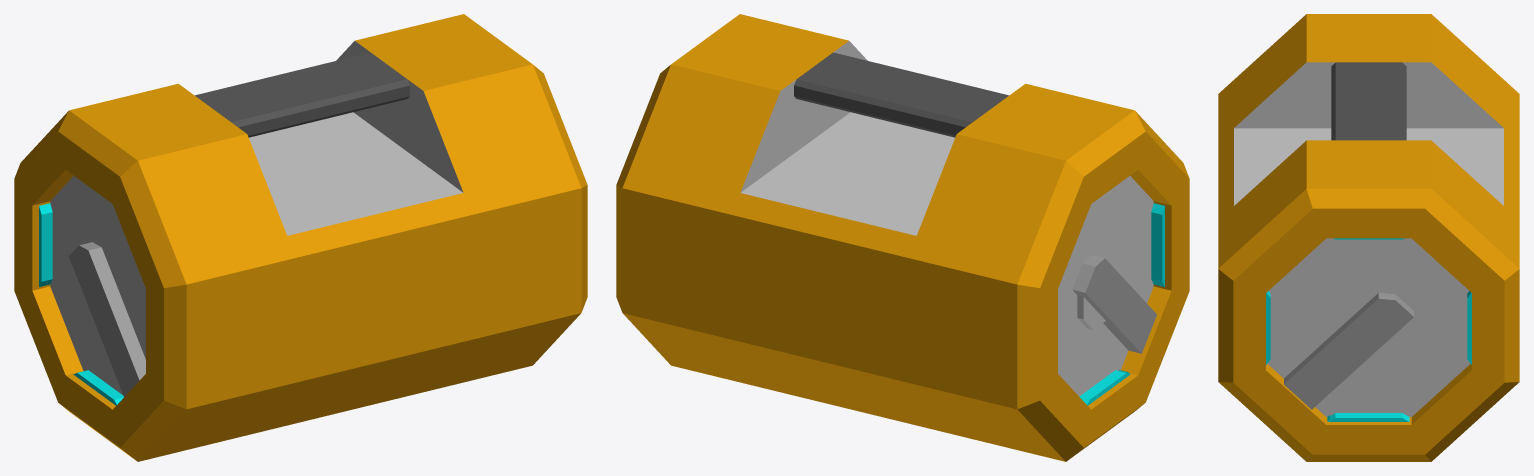
The model's file is SM_LA01_Battery.fbx.
3 renders of one model, left to right at view 1: azimuth 30°, elevation 25°; view 2: azimuth 150°, elevation 25°; view 3: azimuth 270°, elevation 25°, orthographic. The views are drawn at different scales.
Parts seen in each view (by area): view 1: SM_LA01_Battery; view 2: SM_LA01_Battery; view 3: SM_LA01_Battery.
Boxes of the visible parts, left/top/right/bottom form: SM_LA01_Battery: left=14, top=14, right=587, bottom=461; SM_LA01_Battery: left=616, top=14, right=1189, bottom=461; SM_LA01_Battery: left=1218, top=14, right=1519, bottom=461.
Size of the model in its own units: 19 by 12.91 by 12.91.
